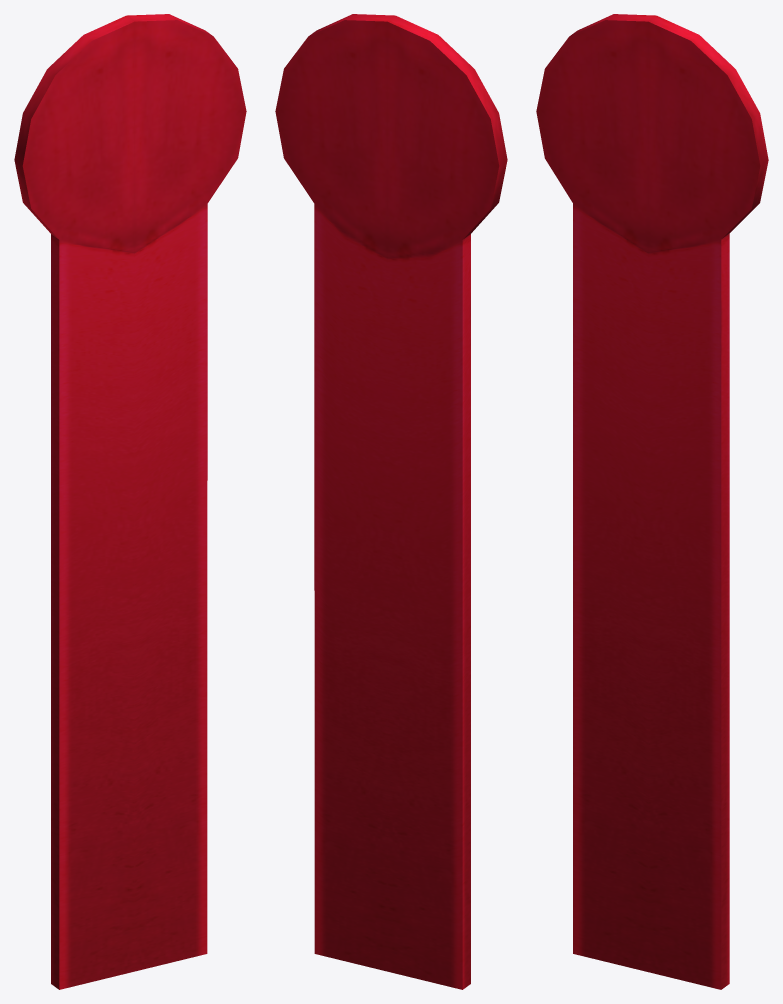
3 renders of one model, left to right at view 1: azimuth 30°, elevation 25°; view 2: azimuth 150°, elevation 25°; view 3: azimuth 330°, elevation 25°, orthographic.
Parts seen in each view (by area): view 1: Object47; view 2: Object47; view 3: Object47.
Part boxes in pixels (left/top/right/bottom): Object47: left=14, top=14, right=246, bottom=989; Object47: left=275, top=14, right=507, bottom=989; Object47: left=536, top=14, right=768, bottom=989.
Bounding box in the file's own units: 3.87 × 0.2484 × 15.7.
